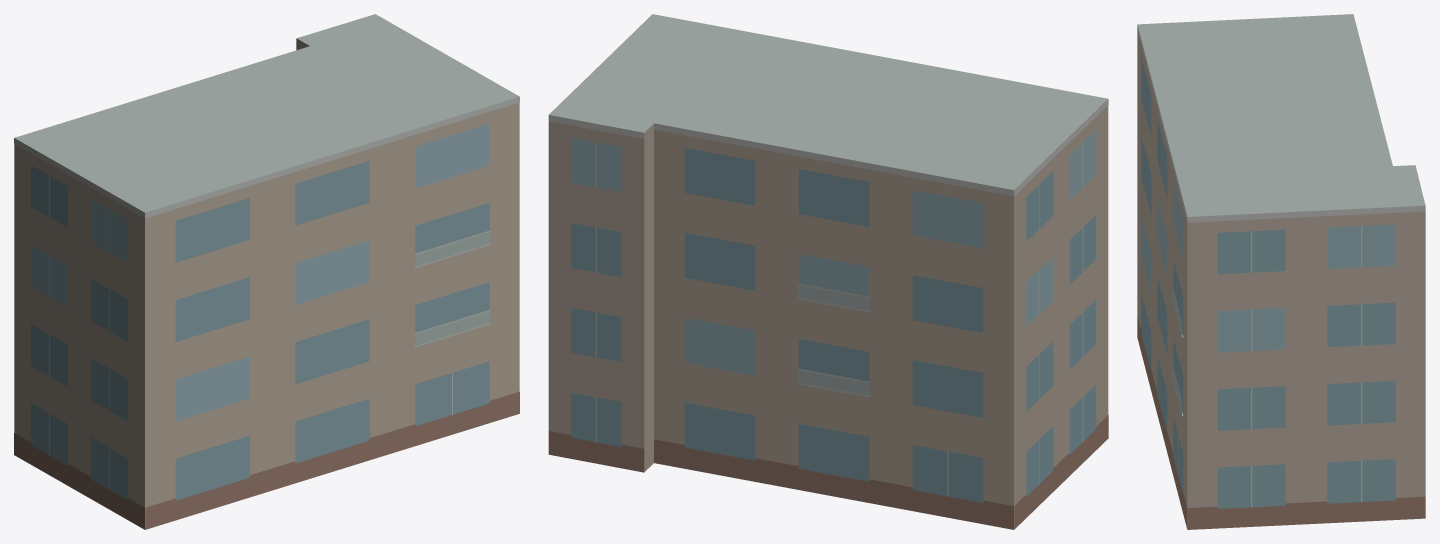
The model's file is survey-upis-32954157.glb.
3 renders of one model, left to right at view 1: azimuth 30°, elevation 25°; view 2: azimuth 150°, elevation 25°; view 3: azimuth 270°, elevation 25°, orthographic. The views are drawn at different scales.
Visible parts, largest first — view 1: survey-upis-32954157.tmp; view 2: survey-upis-32954157.tmp; view 3: survey-upis-32954157.tmp.
Boxes of the visible parts, x1,y1,x2,y2 form: survey-upis-32954157.tmp: [14, 14, 519, 529]; survey-upis-32954157.tmp: [548, 14, 1108, 529]; survey-upis-32954157.tmp: [1137, 14, 1425, 529].
Bounding box in the file's own units: 18.37 × 13.2 × 11.03.
